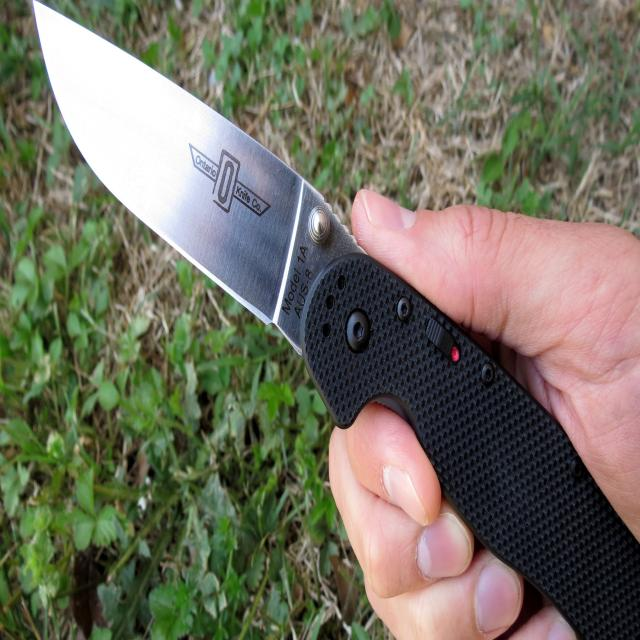knife: (30, 2, 640, 640)
